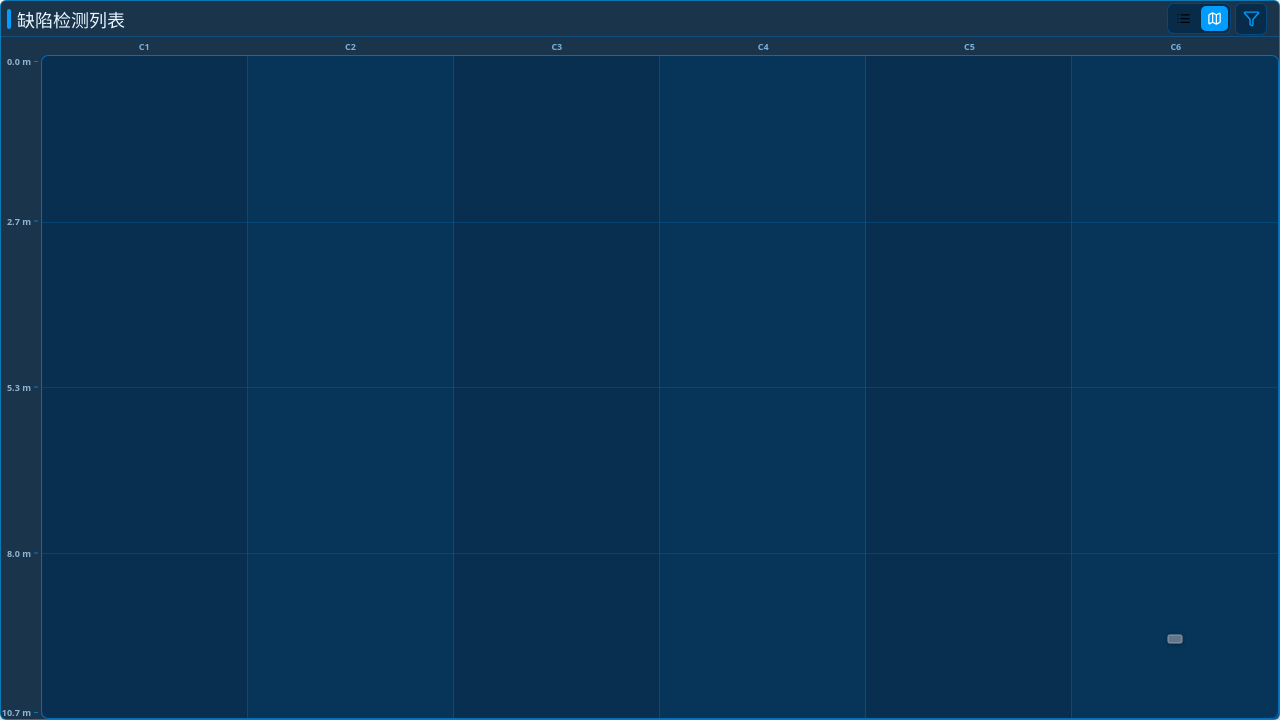
Scenario: DefectDetectionList algorithm defects › shows an eight-camera synthetic algorithm defect with an explicit marker
Step 1. Click the button titled "列表" → (1184, 18), box x1=1170 y1=6 x2=1197 y2=31
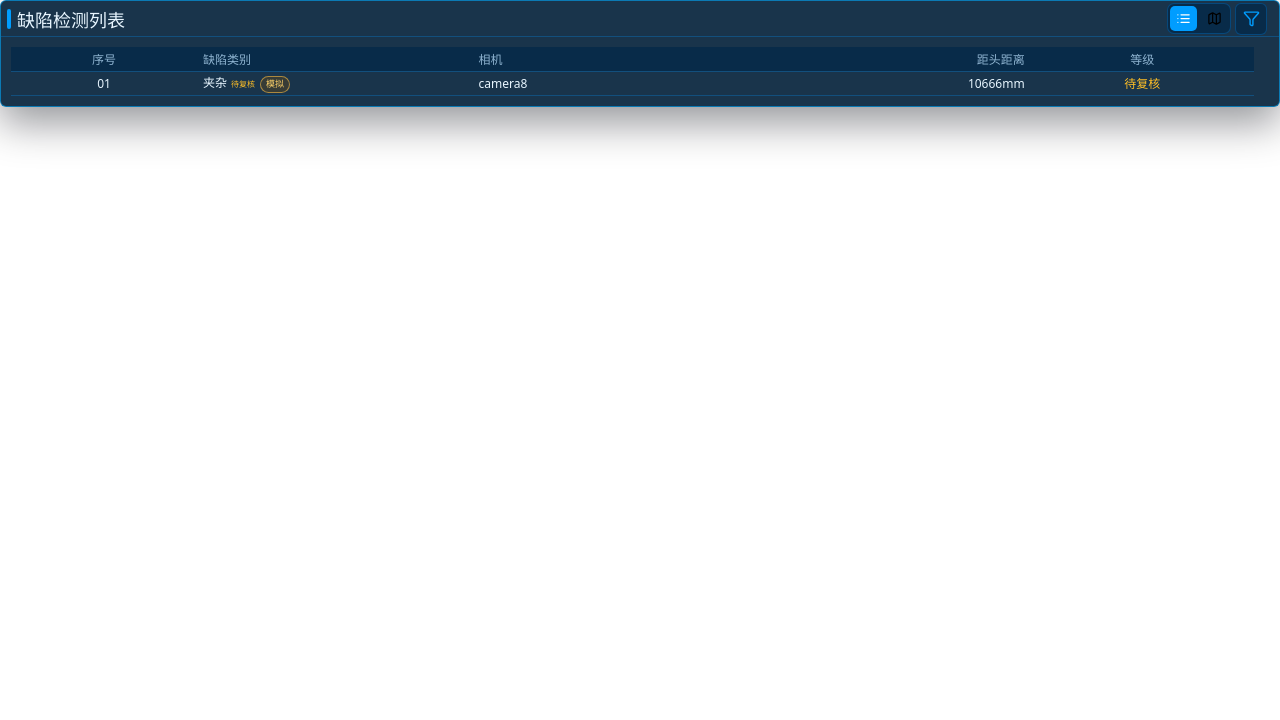
Expected: the text "camera8" is shown, x1=472 y1=71 x2=718 y2=95
Expected: the text "夹杂" is shown, x1=203 y1=74 x2=227 y2=92
Expected: the text "模拟" is shown, x1=260 y1=76 x2=290 y2=92
